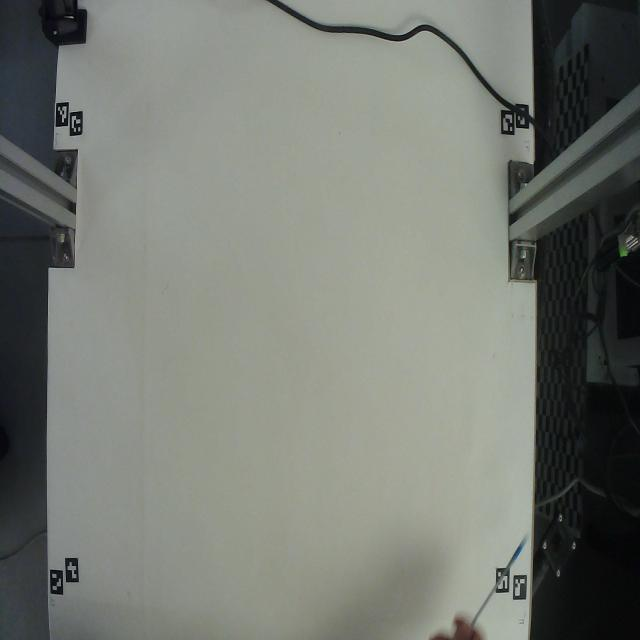NoPres: (458, 510, 534, 628)
